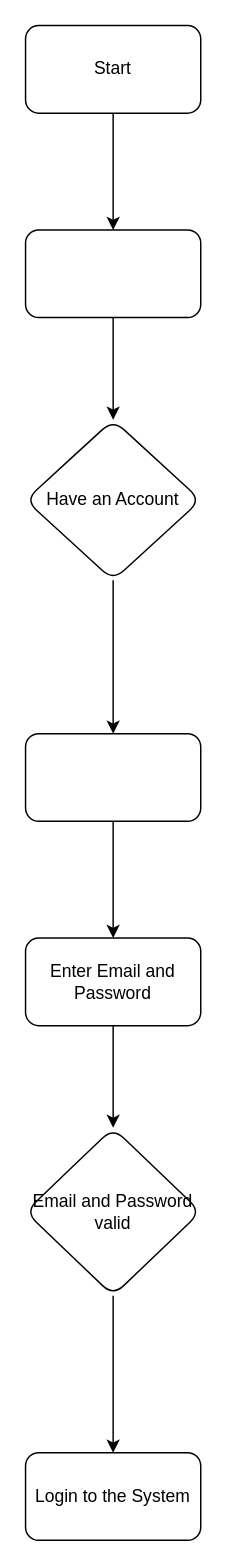
The diagram is 226 pixels wide and 1567 high, and some of its shapes have lost their labels. Here are the shapes that lost their labels. From the top down, the centre of each, then its label:
At (112,273): "Enter Your Website".
At (112,776): "Login".
